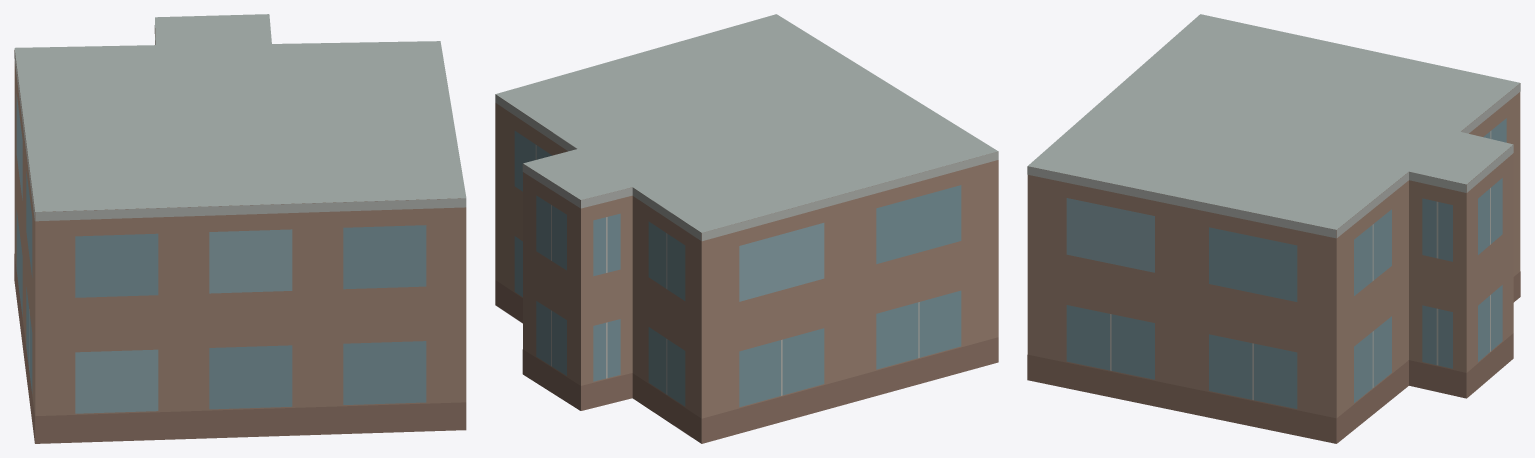
The model's file is survey-upis-32470155.glb.
3 renders of one model, left to right at view 1: azimuth 30°, elevation 25°; view 2: azimuth 150°, elevation 25°; view 3: azimuth 270°, elevation 25°, orthographic. The views are drawn at different scales.
Visible parts, largest first — view 1: survey-upis-32470155.tmp; view 2: survey-upis-32470155.tmp; view 3: survey-upis-32470155.tmp.
Part boxes in pixels (x1,y1,x2,y2): survey-upis-32470155.tmp: [14, 14, 466, 443]; survey-upis-32470155.tmp: [495, 14, 998, 443]; survey-upis-32470155.tmp: [1027, 14, 1520, 443].
Bounding box in the file's own units: 13.21 × 6.1 × 12.75.
